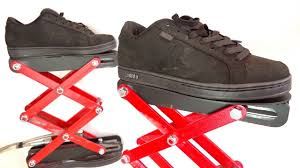Scissor Lift: (8, 53, 124, 168)
